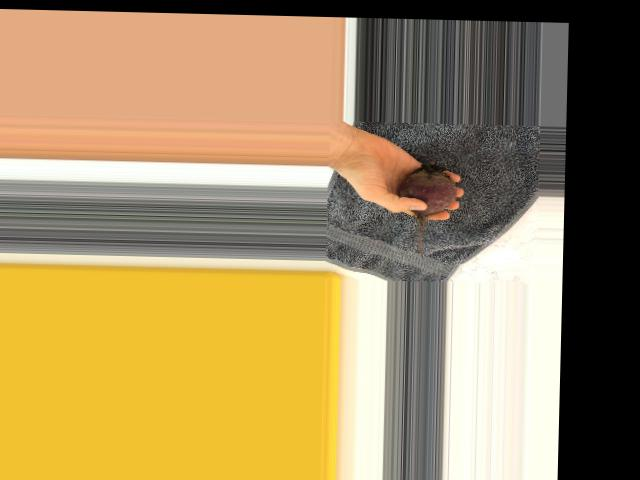beet: (397, 163, 458, 259)
